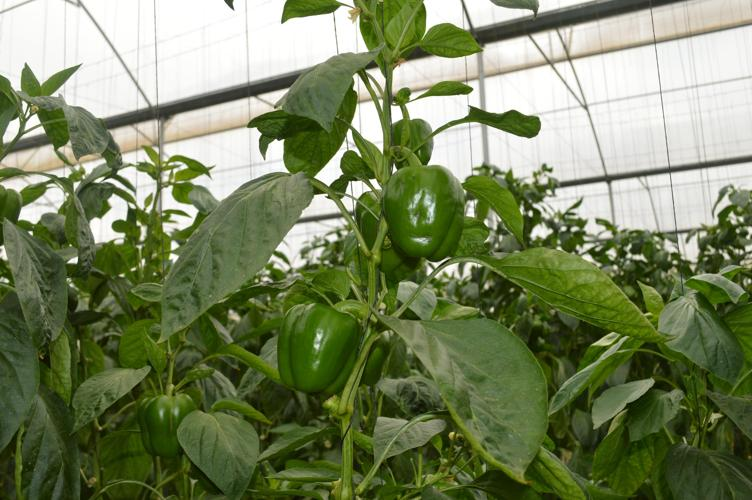BellPepper: (378, 158, 471, 262), (272, 298, 363, 399), (132, 389, 200, 467)
